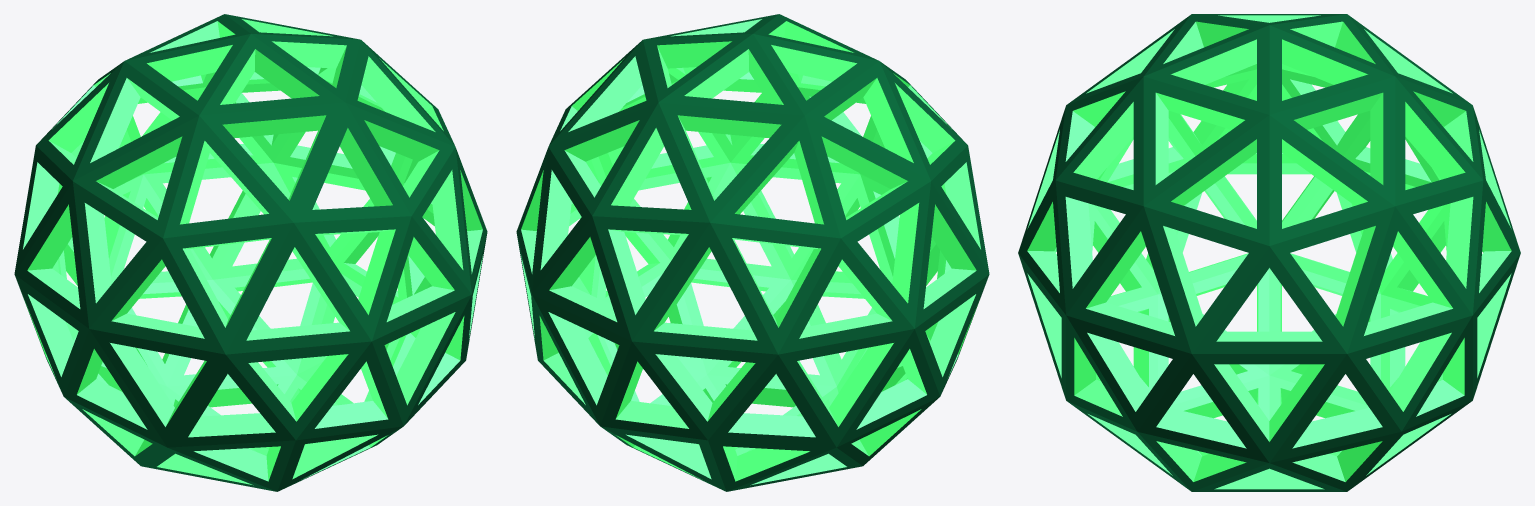
The model's file is test_ico.gltf.
3 renders of one model, left to right at view 1: azimuth 30°, elevation 25°; view 2: azimuth 150°, elevation 25°; view 3: azimuth 270°, elevation 25°, orthographic. The views are drawn at different scales.
Parts seen in each view (by area): view 1: Icosphere; view 2: Icosphere; view 3: Icosphere.
Boxes of the visible parts, x1=… form: Icosphere: x1=14, y1=14, x2=487, y2=491; Icosphere: x1=516, y1=14, x2=989, y2=491; Icosphere: x1=1018, y1=14, x2=1520, y2=491.
Bounding box in the file's own units: 2.14 × 2.25 × 2.25.
